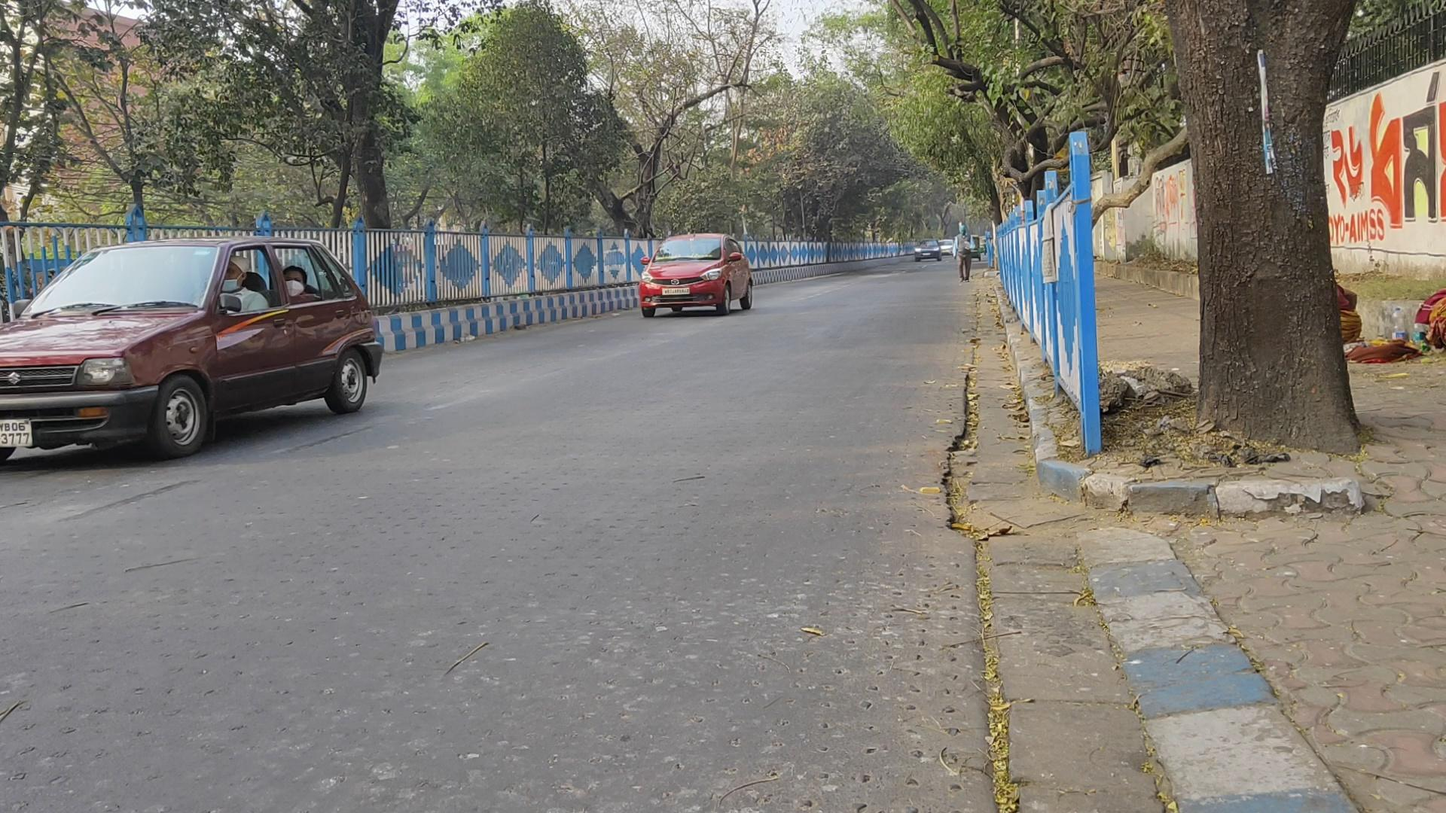car: (1, 236, 384, 458), (636, 233, 752, 321), (912, 237, 944, 263), (938, 239, 953, 256)
